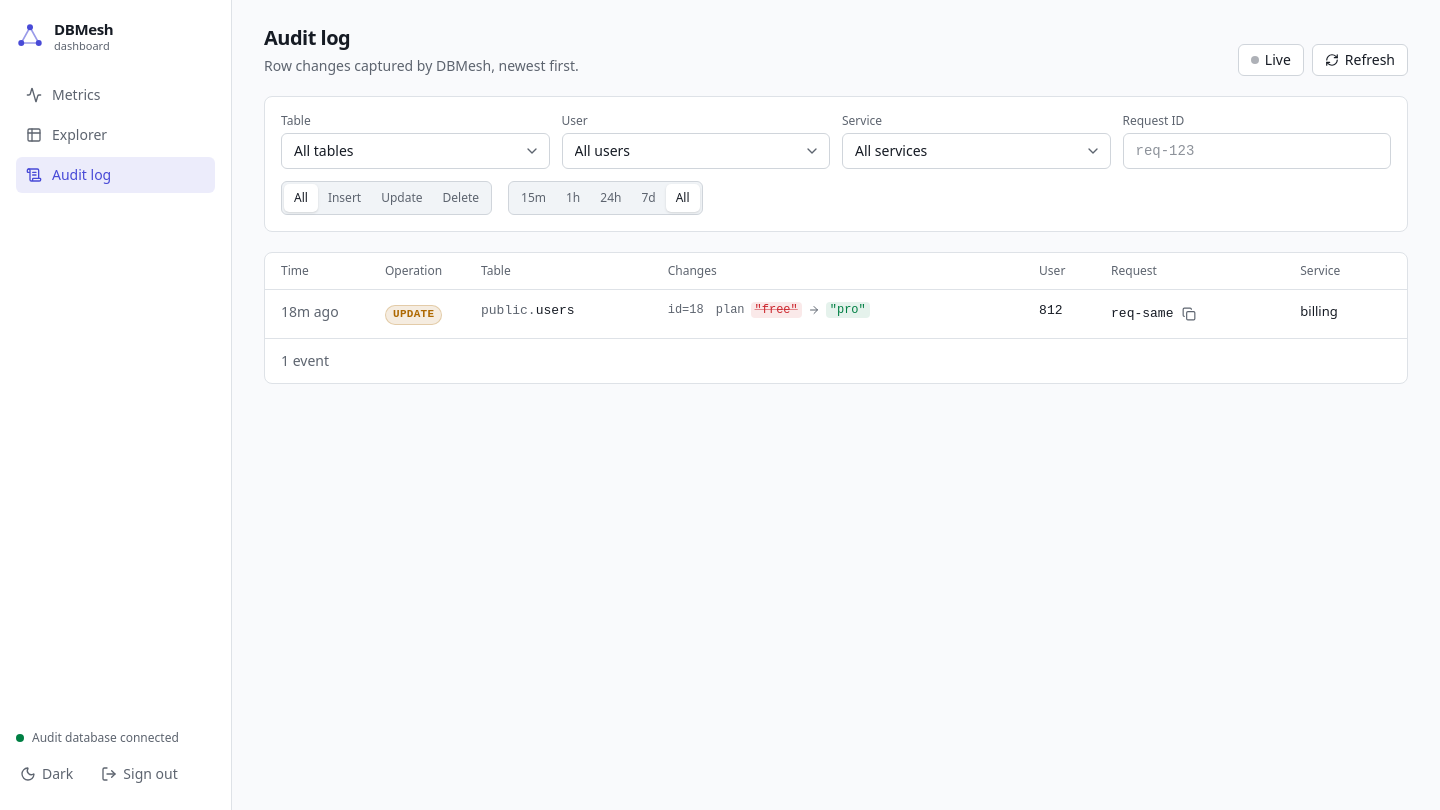
audit log › filters by the request of the open event
This screenshot has width=1440, height=810.
Click the row named "UPDATE public.users, 18m ago. Open details".
click(836, 314)  # box [265, 290, 1407, 338]
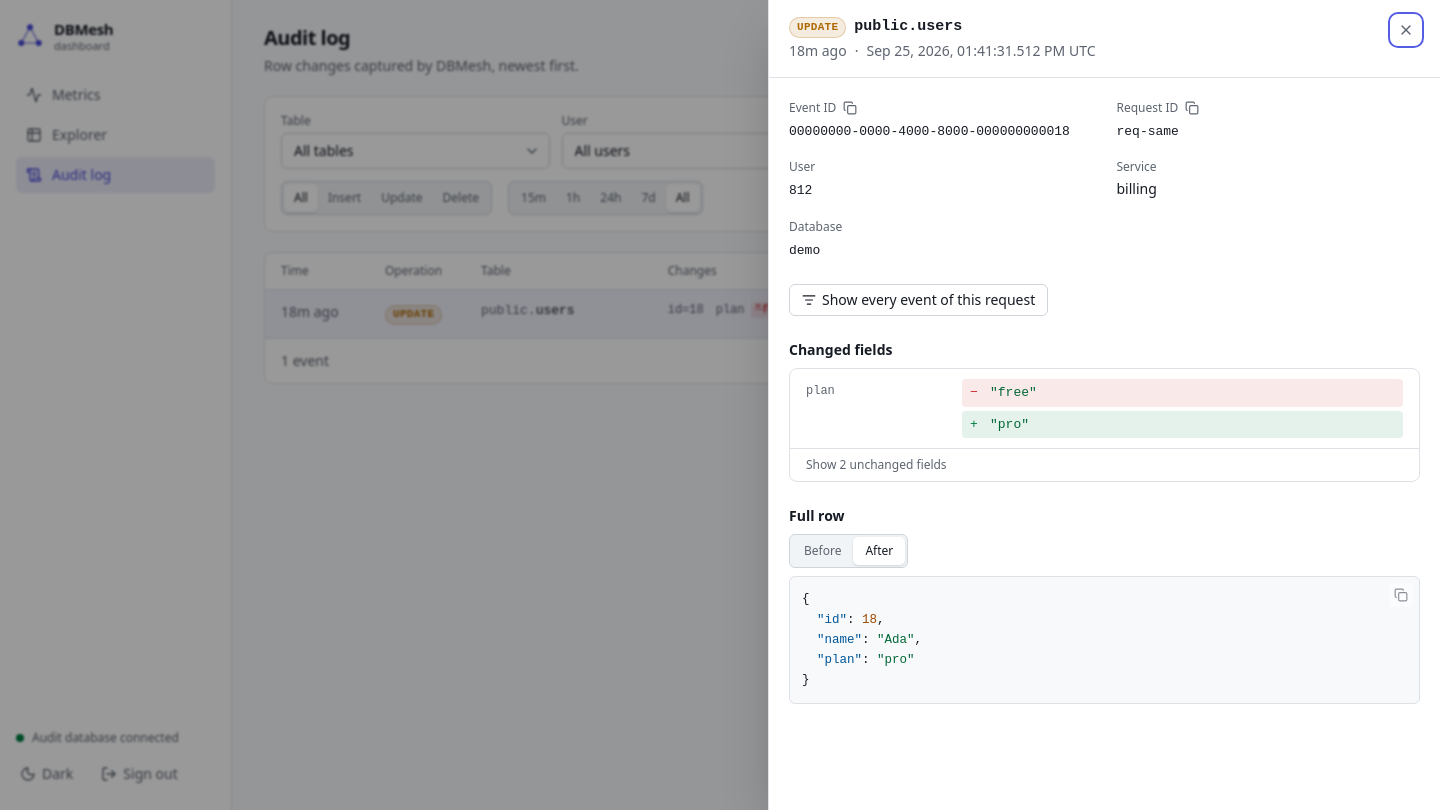
Click the button "Show every event of this request".
click(919, 300)  # box [789, 284, 1048, 316]
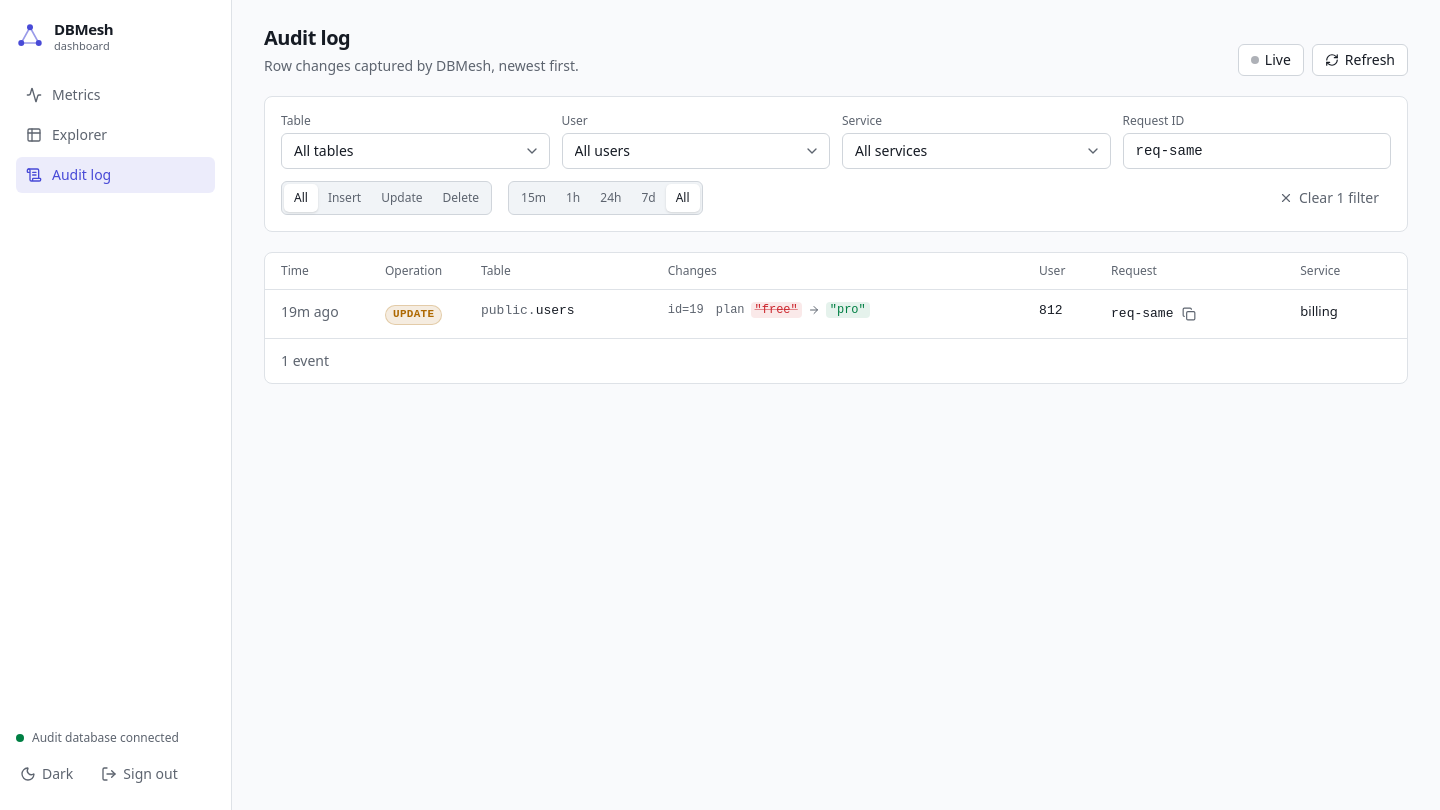
Expected: the text "req-same" is shown, [1111, 305, 1173, 324]
Result: the field labelled "Request ID" holds "req-same" at [1122, 133, 1391, 169]
